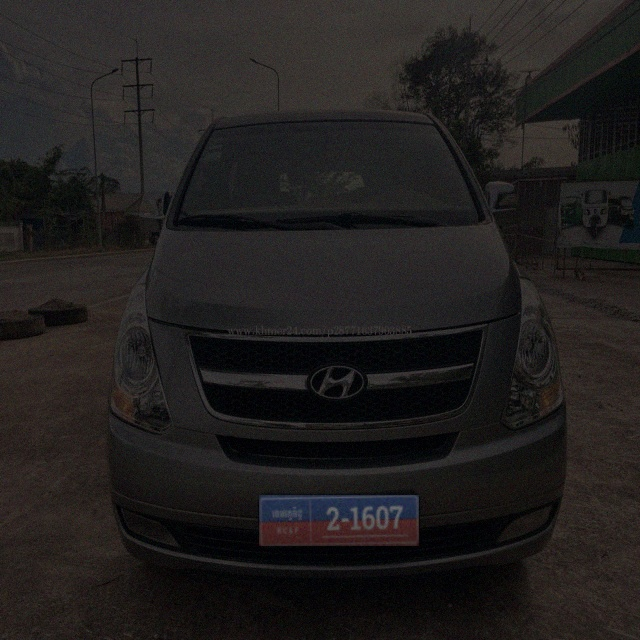Plate Number: (259, 495, 420, 546)
